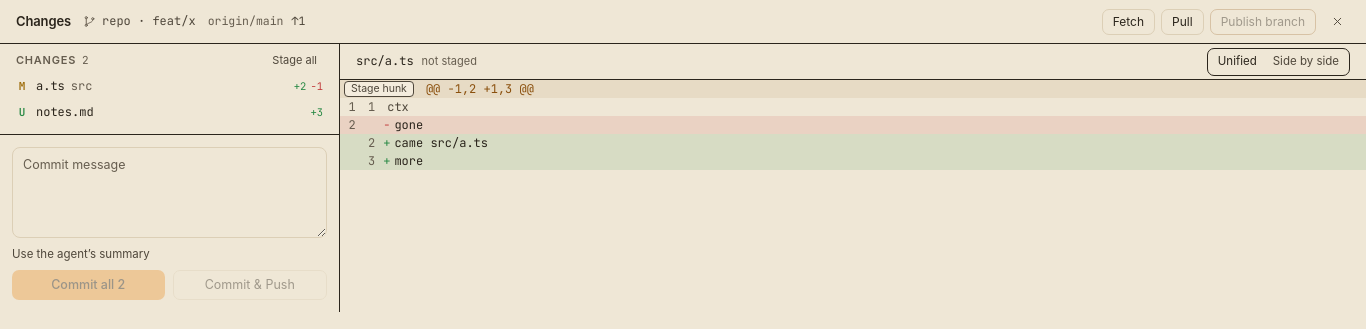
ChangesView › commits everything when nothing is staged, drafting from the agent
This screenshot has width=1366, height=329.
Check: the text "came src/a.ts" is shown, box 394,134 -> 504,152
What coordinates should you click on to do the following:
click the button "Use the agent’s summary"
I would click on:
 (81, 254)
Its box is 12,246 -> 150,262.
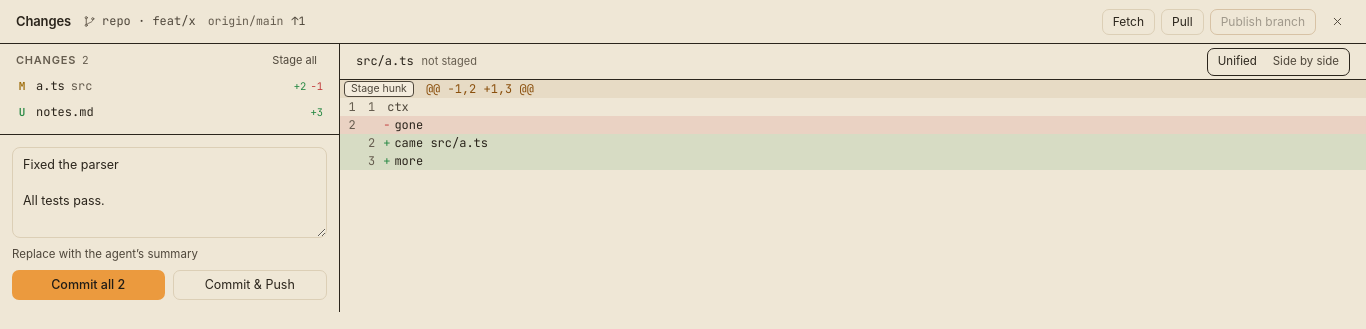
What coordinates should you click on to do the following:
click the button "Commit all 2"
I would click on:
 (88, 285)
Its box is 12,270 -> 164,300.
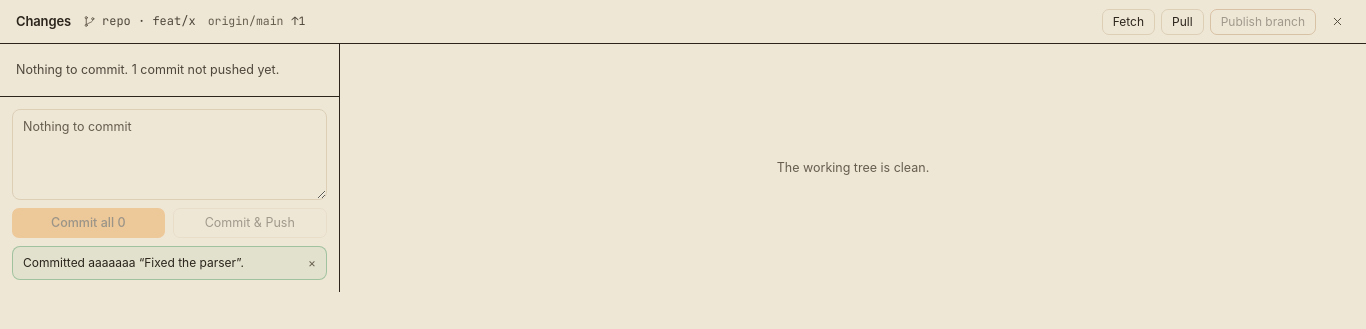
Check: the text "Committed aaaaaaa “Fixed the parser”." is shown, box 23,255 -> 244,270
